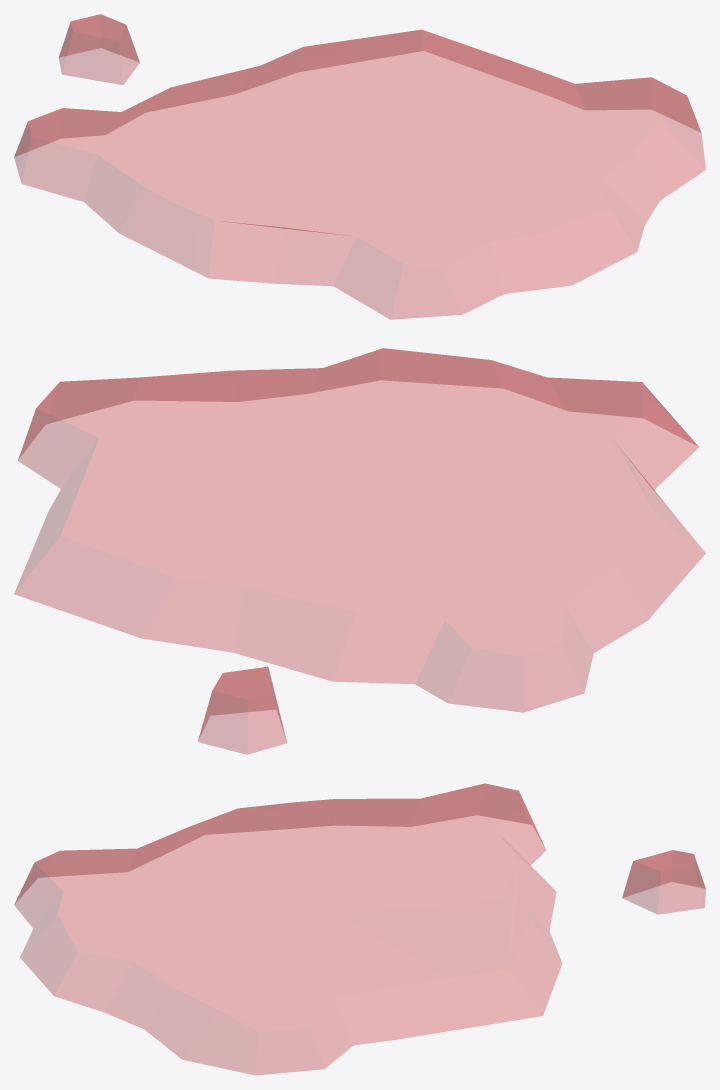
File: SM_Prop_Goop_Slime_07.obj
3 views of the same model, one above another, from view 1: azimuth 30°, elevation 25°; view 2: azimuth 150°, elevation 25°; view 3: azimuth 270°, elevation 25° (orthographic). The views are drawn at different scales.
Visible parts, largest first — view 1: SM_Prop_Goop_Slime_07_0; view 2: SM_Prop_Goop_Slime_07_0; view 3: SM_Prop_Goop_Slime_07_0.
Part boxes in pixels (bbox=[...]): SM_Prop_Goop_Slime_07_0: bbox=[14, 14, 705, 319]; SM_Prop_Goop_Slime_07_0: bbox=[14, 348, 705, 754]; SM_Prop_Goop_Slime_07_0: bbox=[14, 783, 705, 1075].
Size of the model in its own units: 0.781 by 0.056 by 0.8791.
